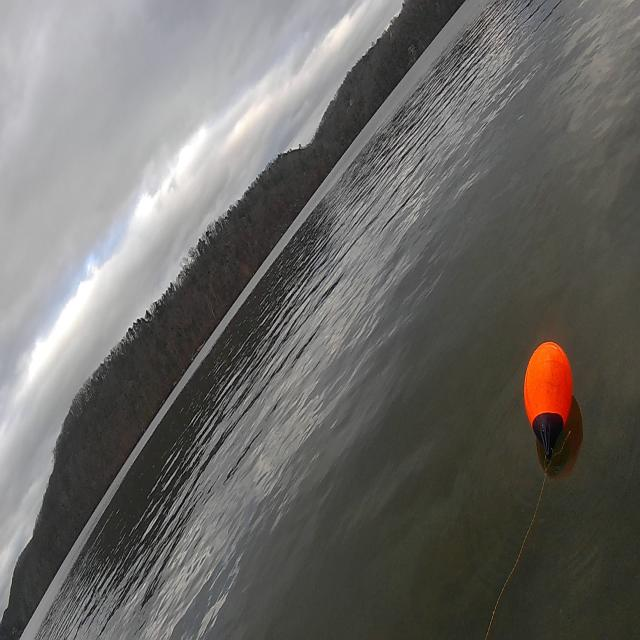Buoy: (518, 336, 577, 476)
